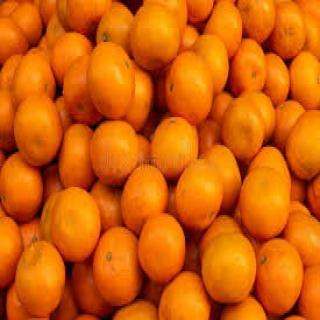orange: (162, 38, 216, 140), (90, 112, 142, 200), (88, 35, 136, 129), (150, 106, 202, 186)
